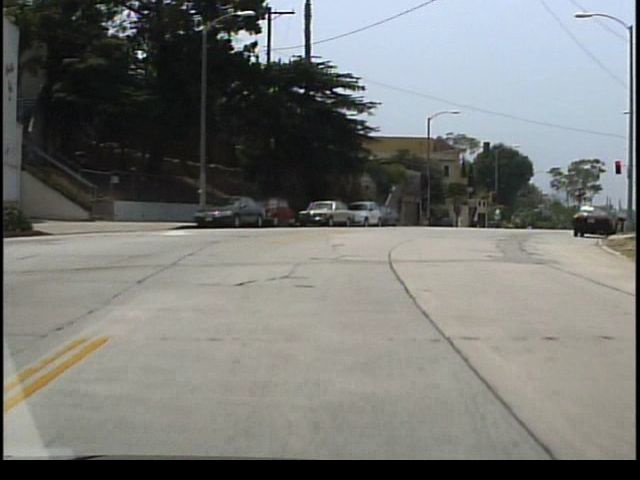person: (498, 206, 505, 228)
